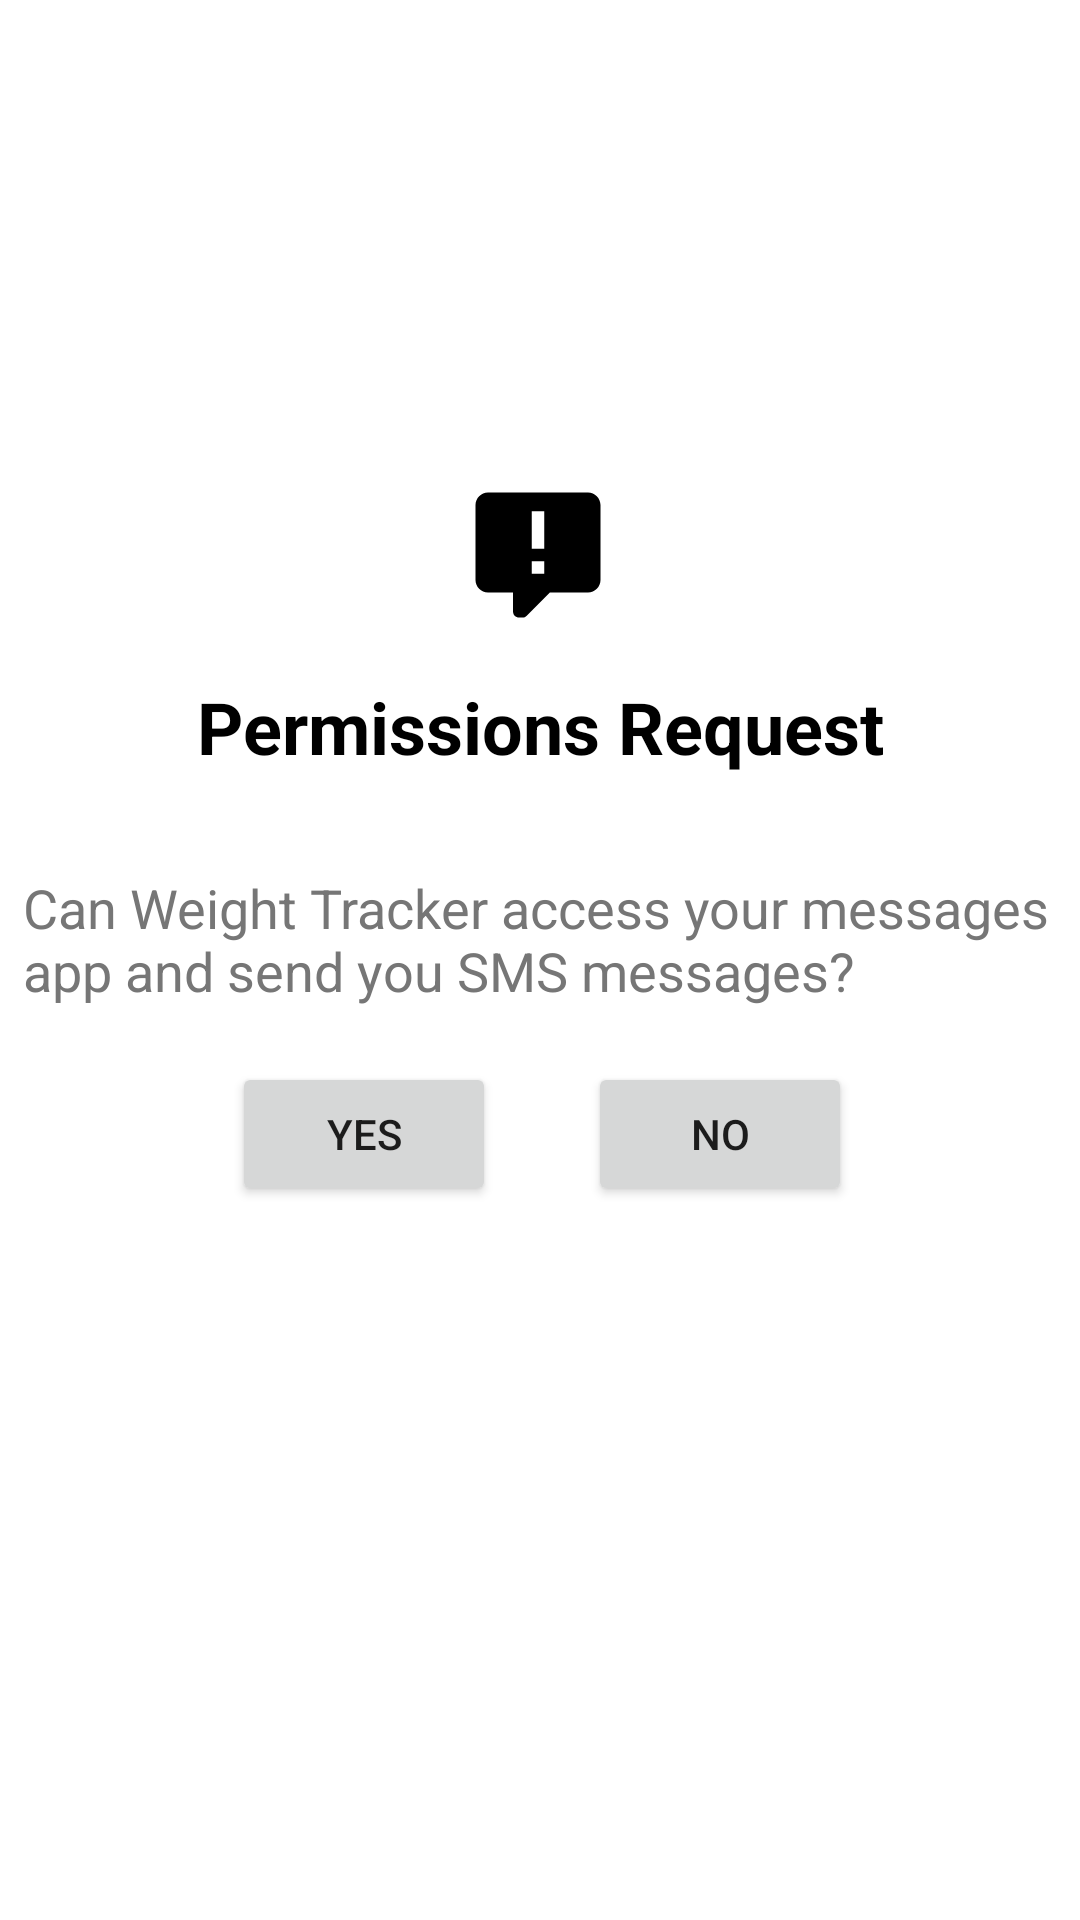

Where to tap for icons on this 1080 × 1920 app screen, as (x,y):
comment alert: (538,555)
